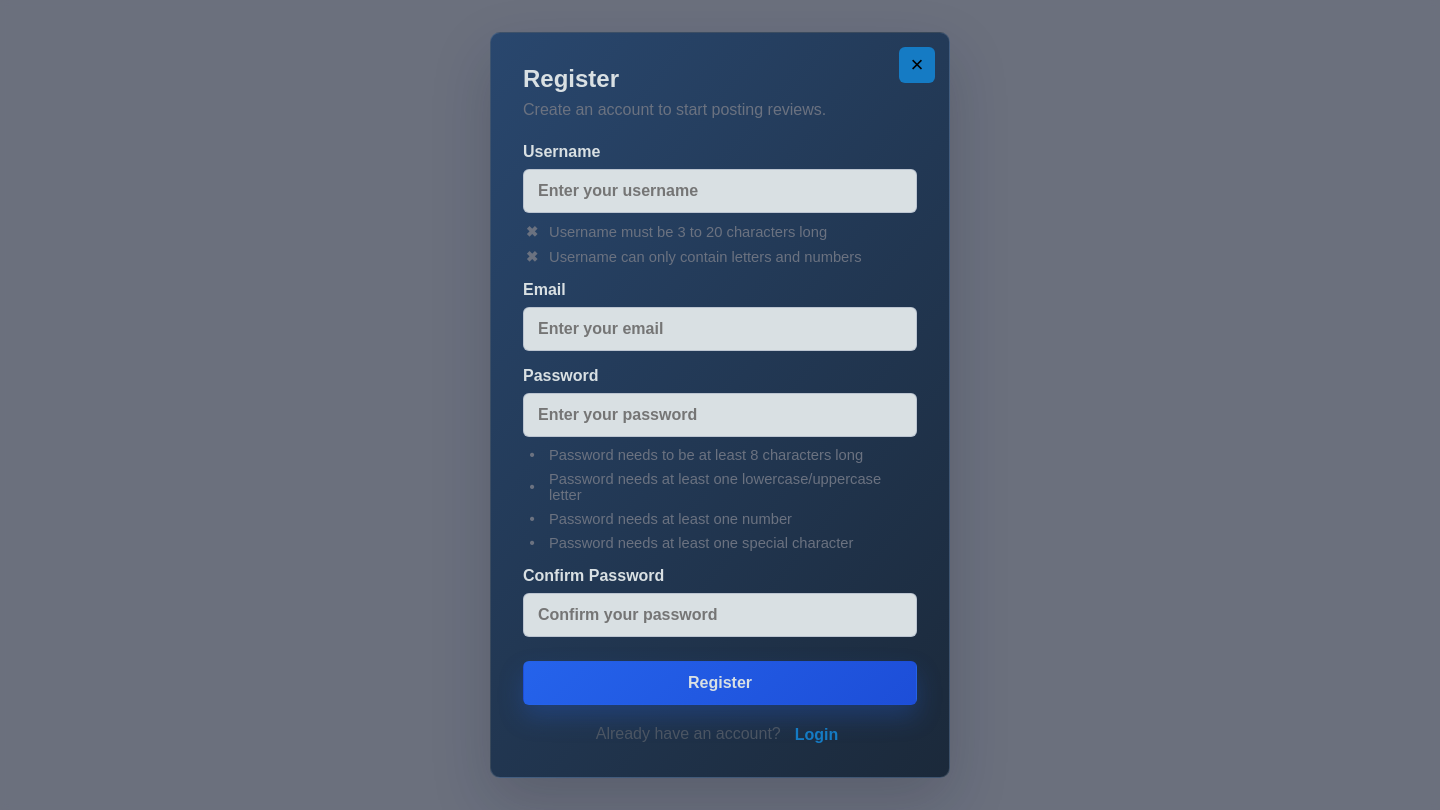
AuthModal register validation › shows an error for invalid username on submit
Step 1. Type "bad_user!!" into the field labelled "Username" → {"x": 720, "y": 191}, box [523, 169, 917, 213]
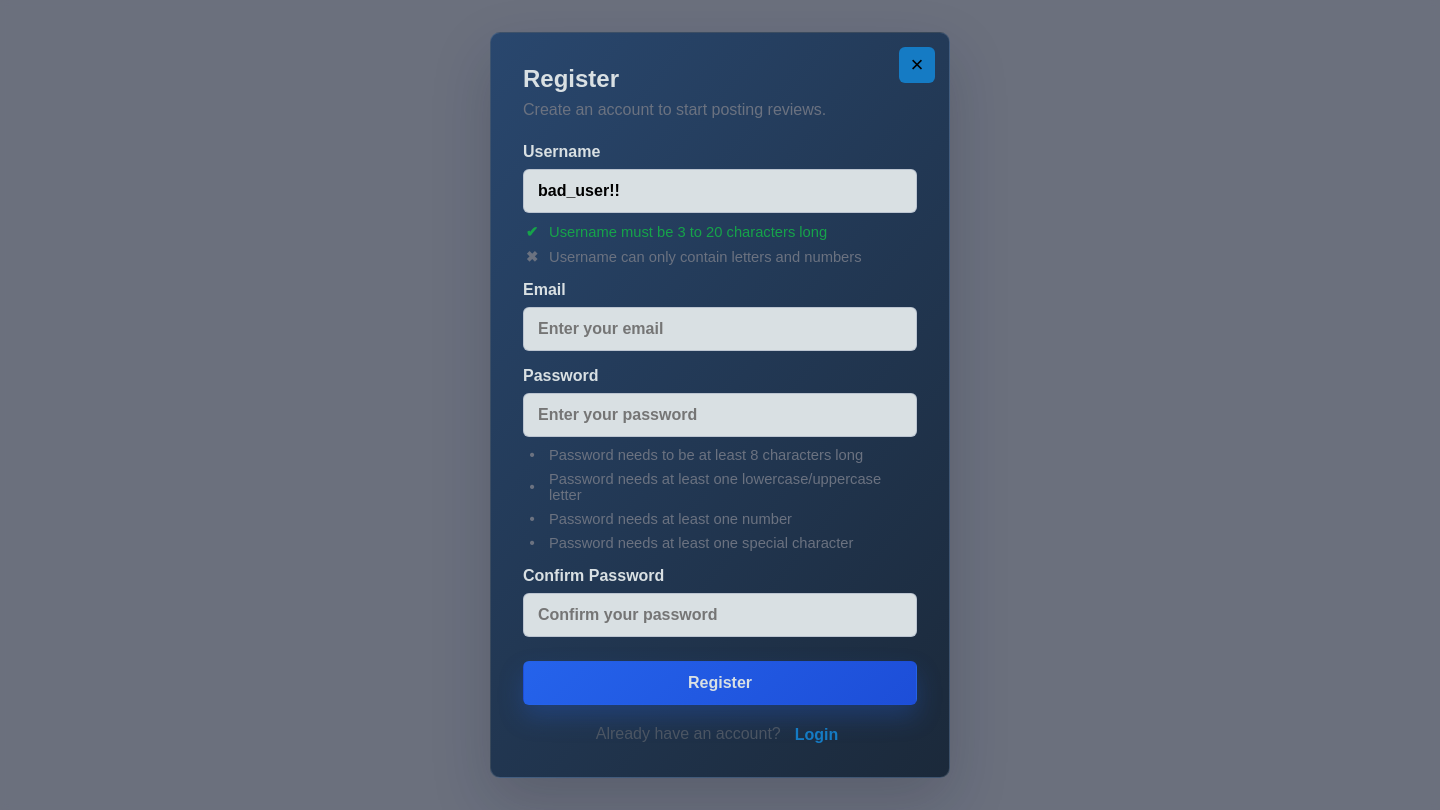
Step 2. Type "test@example.com" into the field labelled "Email" → {"x": 720, "y": 329}, box [523, 307, 917, 351]
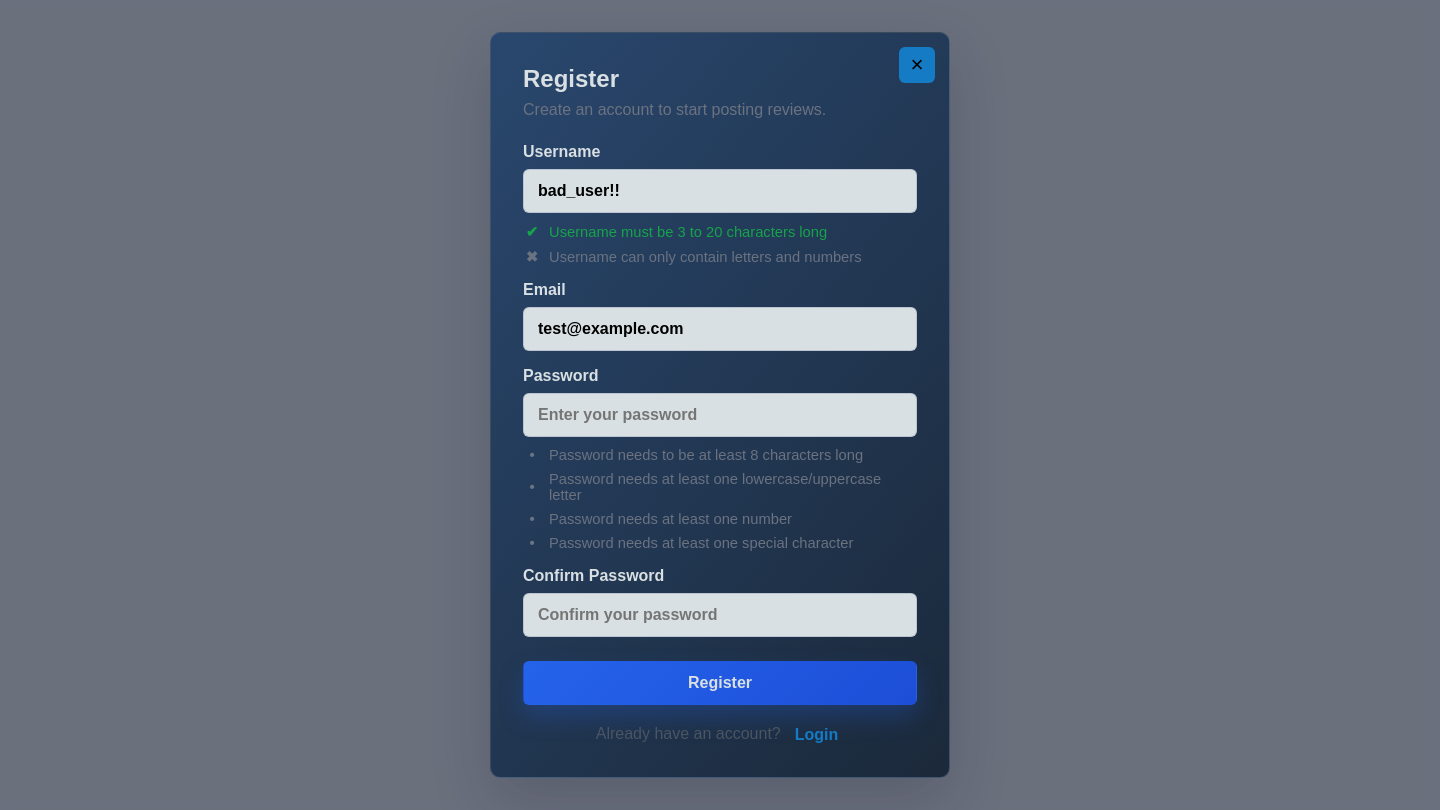
Step 3. Type "SecurePass1!" into the password field labelled "Password" → {"x": 720, "y": 415}, box [523, 393, 917, 437]
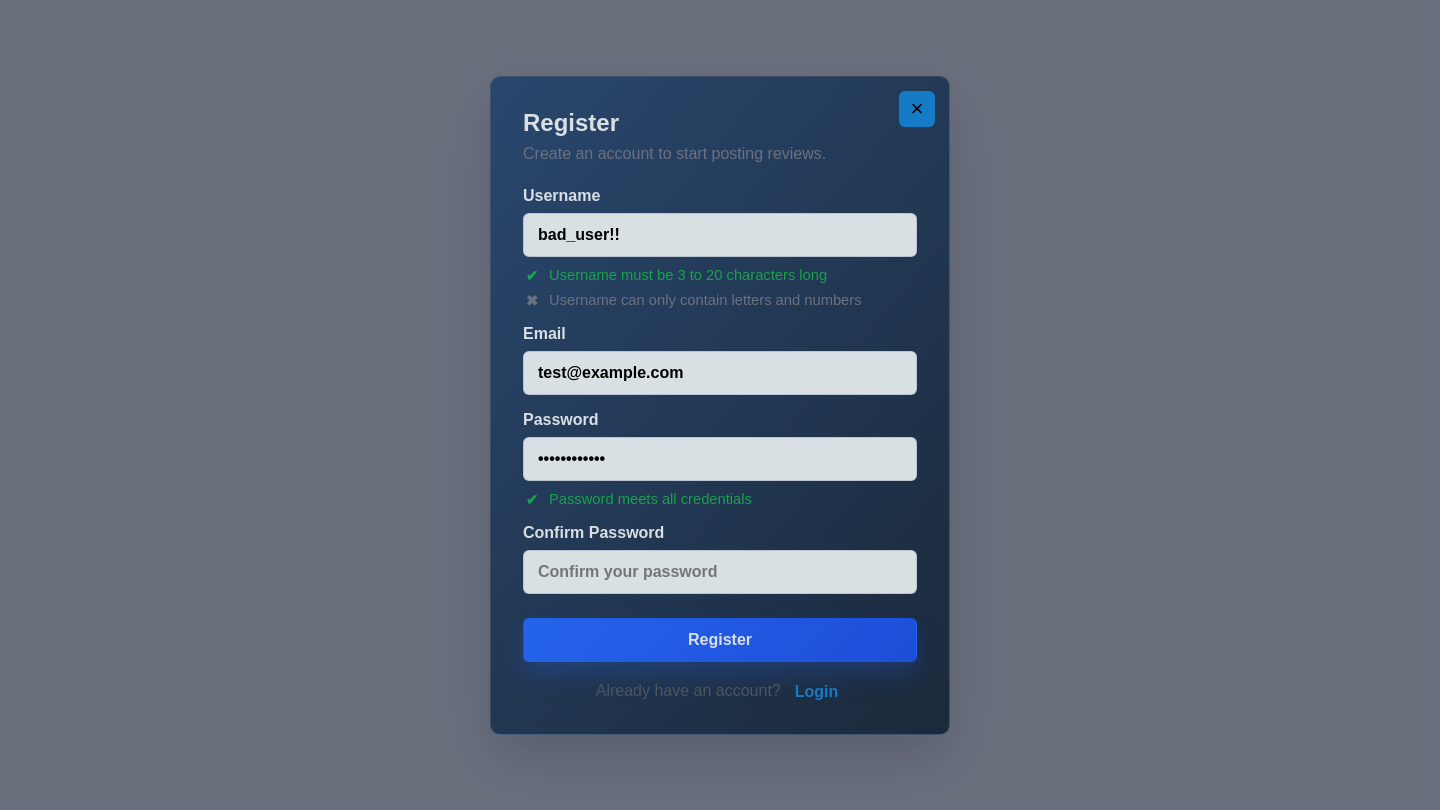
Step 4. Type "SecurePass1!" into the password field labelled "Confirm Password" → {"x": 720, "y": 572}, box [523, 550, 917, 594]
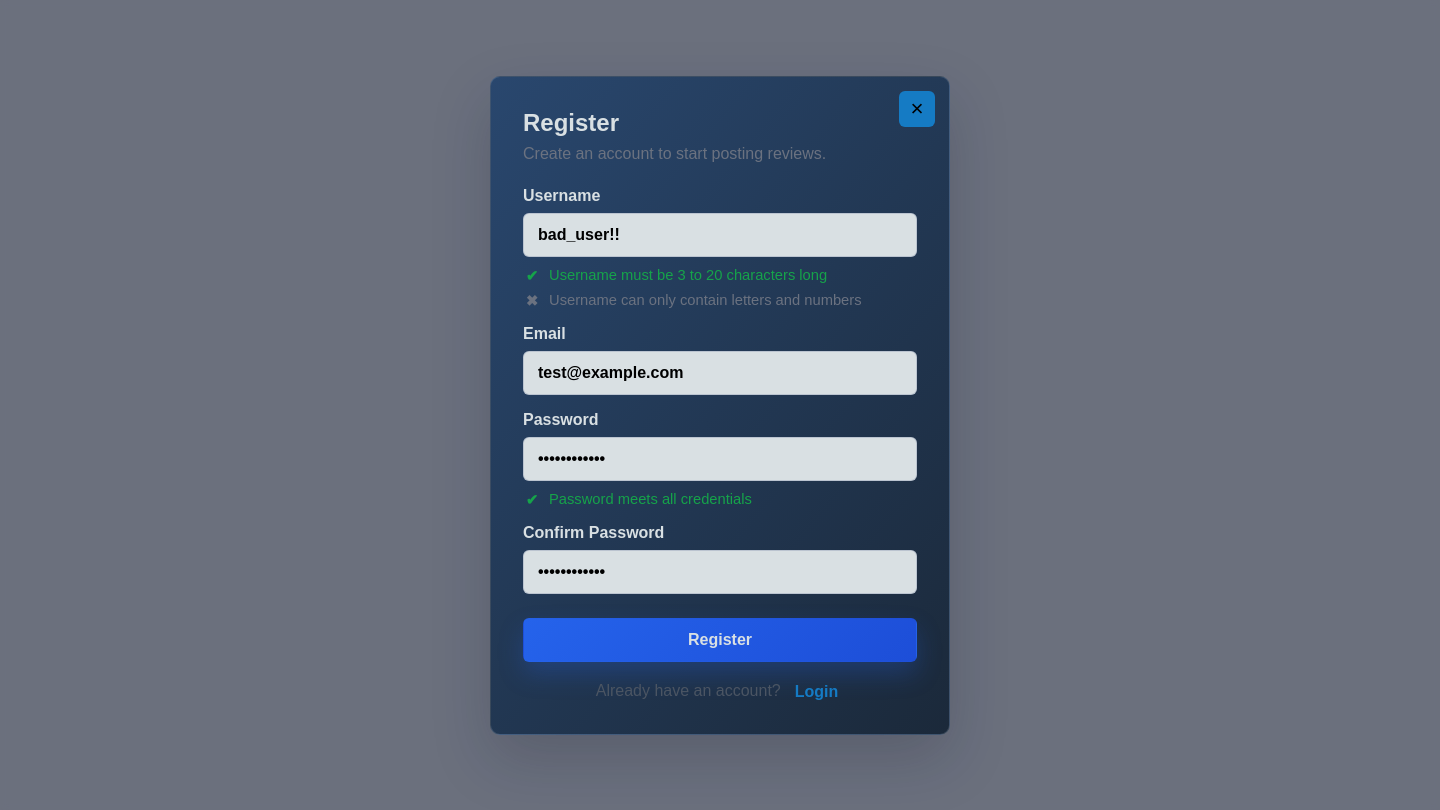
Step 5. Submit the form, box [523, 186, 917, 662]
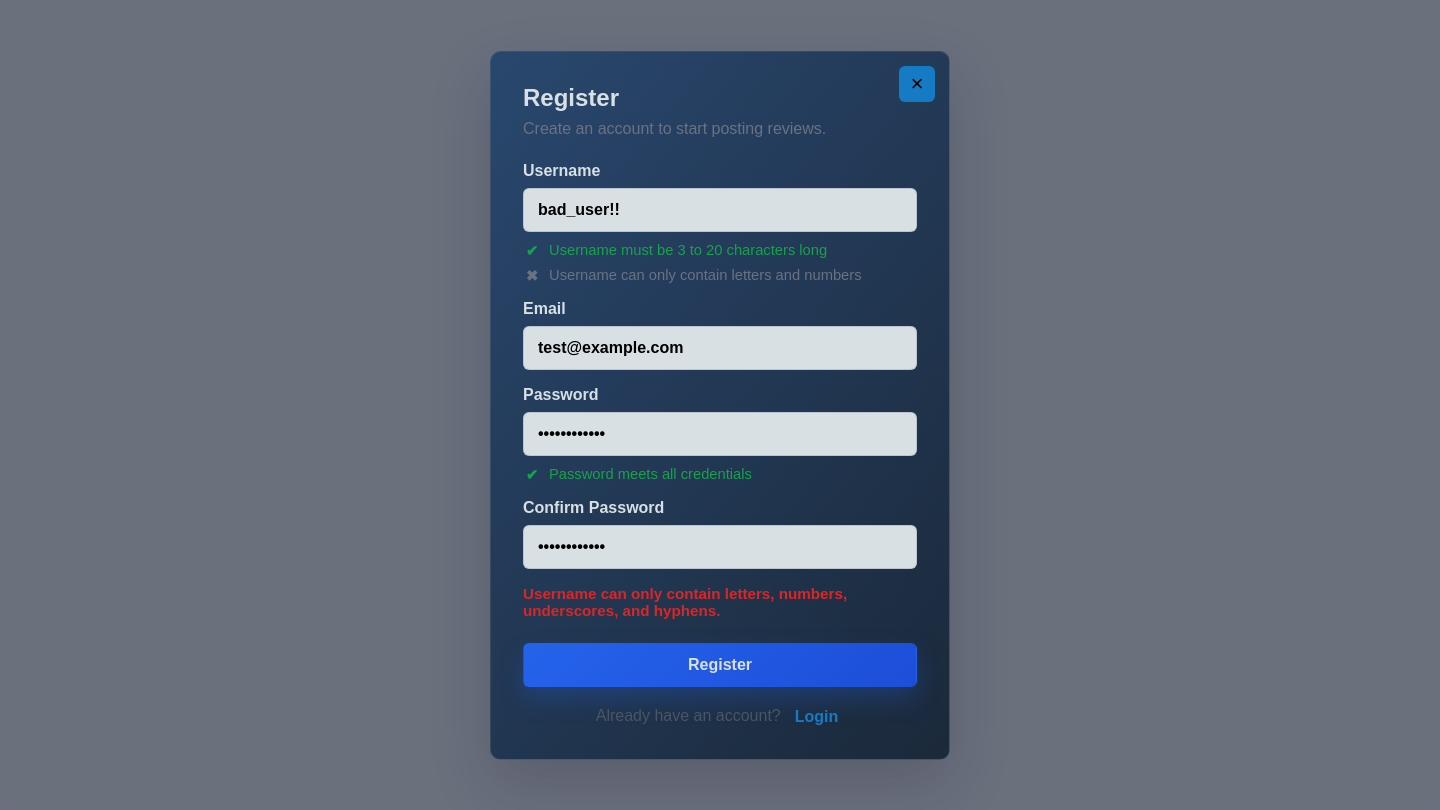
Now the text "Username can only contain letters, numbers, underscores, and hyphens." is shown, box [523, 584, 847, 618]
